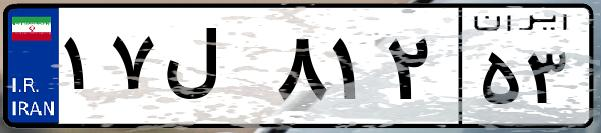1: (330, 28, 385, 110), (57, 26, 110, 100)
2: (385, 28, 445, 110)
3: (525, 38, 570, 115)
5: (475, 38, 525, 113)
7: (110, 28, 158, 98)
8: (270, 28, 330, 110)
ل: (158, 20, 270, 120)
